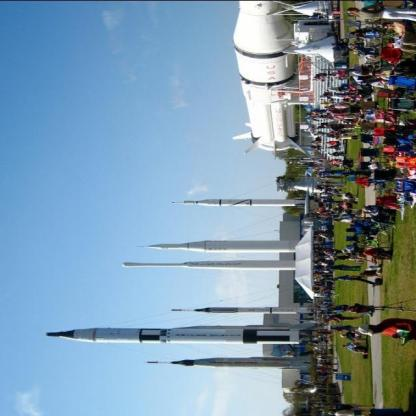MIL_TBM: (232, 0, 300, 154), (48, 321, 300, 343), (118, 258, 299, 274), (147, 356, 313, 369), (138, 241, 303, 253), (163, 304, 313, 314), (172, 198, 308, 206)
